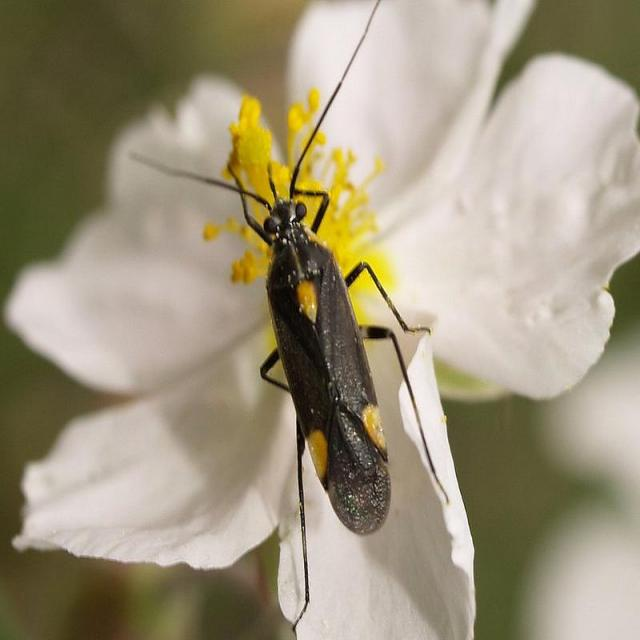Miridae-Adult-: (112, 26, 479, 556)
